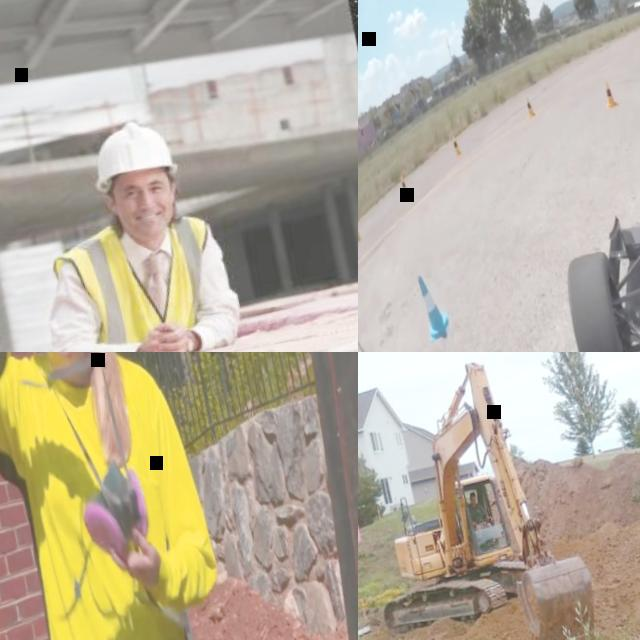Hardhat: (87, 115, 180, 195), (469, 491, 477, 498)
Mask: (75, 453, 159, 572)
NO-Mask: (127, 205, 177, 245), (40, 352, 94, 370), (472, 501, 478, 507)
NO-Safety Vest: (0, 352, 216, 640), (468, 504, 487, 525)
Person: (0, 352, 259, 640), (14, 109, 250, 352), (465, 489, 495, 531)
Safety Cone: (416, 267, 454, 351), (603, 82, 620, 117), (399, 172, 415, 204), (522, 97, 538, 125), (450, 133, 464, 161), (358, 218, 363, 245)
Safety Vest: (47, 208, 227, 352)
vehicle: (358, 352, 607, 640), (509, 96, 640, 352)
